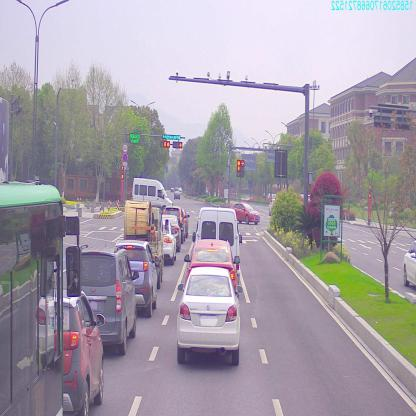traffic-light: (162, 134, 181, 140), (172, 141, 182, 149), (161, 141, 171, 145)
